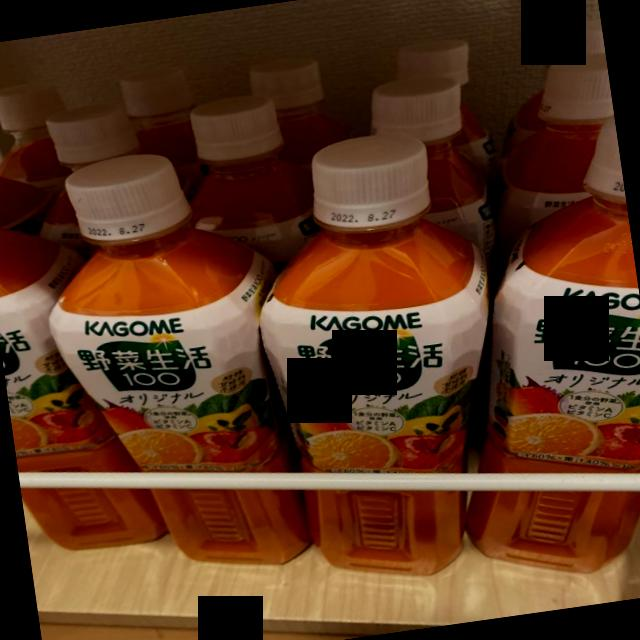juice: (49, 153, 303, 476), (260, 132, 489, 475), (479, 116, 640, 475), (0, 230, 139, 474), (371, 73, 505, 282), (498, 53, 615, 258), (189, 94, 318, 266), (499, 17, 606, 188), (39, 101, 143, 248), (397, 40, 499, 186), (467, 492, 640, 577), (315, 491, 467, 578), (152, 490, 313, 568), (247, 53, 352, 167), (120, 59, 203, 190), (21, 490, 168, 553), (0, 82, 73, 189), (0, 176, 48, 233)
